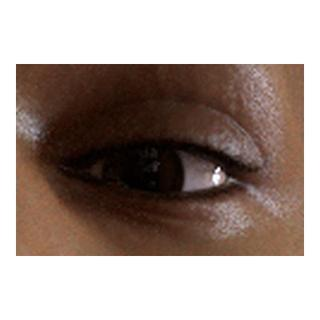pupil: (122, 157, 161, 195)
